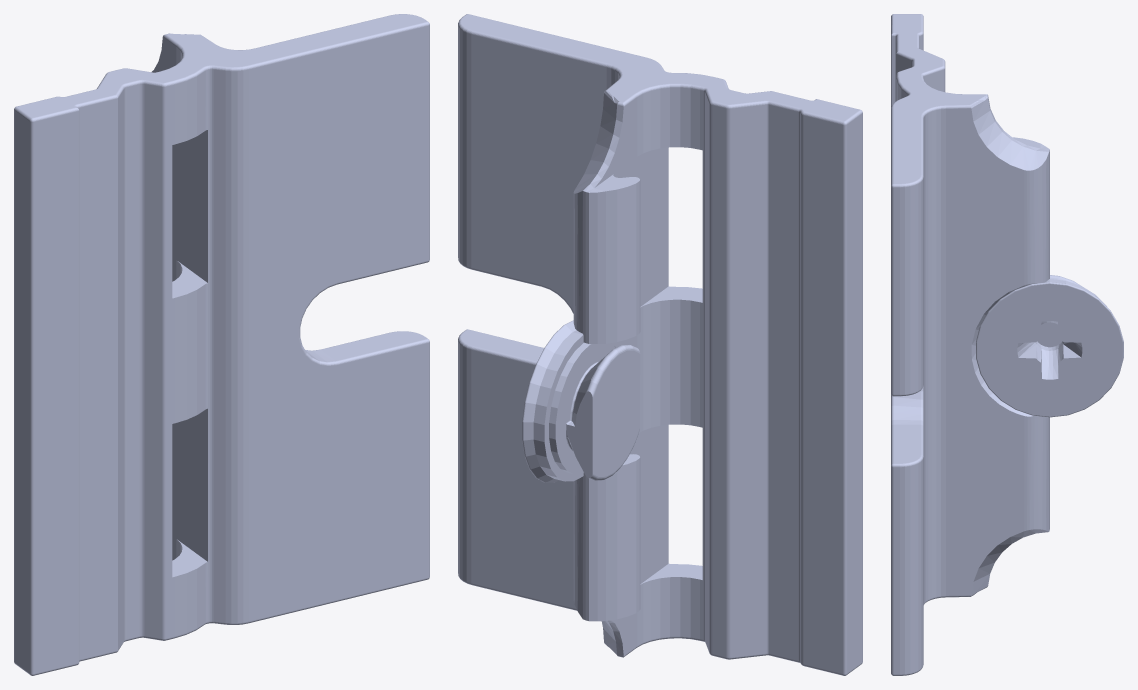
File: Clip-On_Bracket.dae
3 views of the same model, side by side, from view 1: azimuth 30°, elevation 25°; view 2: azimuth 150°, elevation 25°; view 3: azimuth 270°, elevation 25° (orthographic). The views are drawn at different scales.
Parts seen in each view (by area): view 1: node0; view 2: node0; view 3: node0.
Part boxes in pixels (bbox=[...]): node0: bbox=[14, 14, 429, 675]; node0: bbox=[458, 14, 862, 675]; node0: bbox=[891, 14, 1123, 675].
Bounding box in the file's own units: 0.03 × 0.0172 × 0.04.
